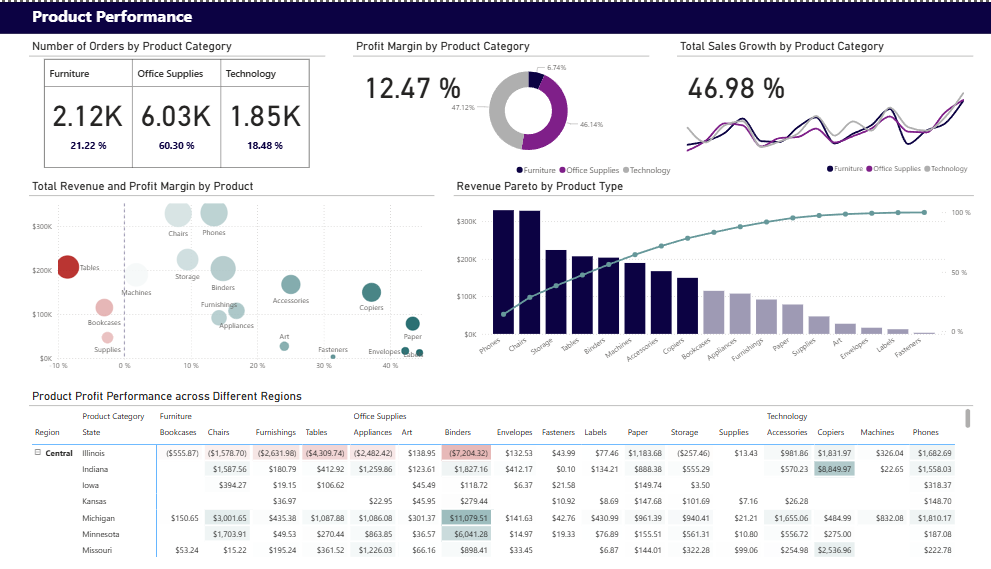

The dashboard page shown, as its layout file describes it:
{"tool":"powerbi","page":{"name":"Product Performance","canvas":[1655,951],"ordinal":3},"visuals":[{"type":"shape","box":[0,0,1655.5,52.7],"z":0},{"type":"scatterChart","title":"Total Revenue and Profit Margin by Product","fields":{"Category":["DimProduct.Category Hierarchy.Product Category","DimProduct.Category Hierarchy.Product Type"],"X":["MeasureTable.Profit Margin %"],"Size":["MeasureTable.Total Sales"],"Y":["MeasureTable.Total Revenue"]},"box":[50,295,676,328],"z":1000},{"type":"pivotTable","title":"Product Profit Performance across Different Regions","fields":{"Columns":["DimProduct.Category Hierarchy.Product Category","DimProduct.Category Hierarchy.Product Type"],"Values":["MeasureTable.Total Profit"],"Rows":["DimLocation.Location Hierarchy.Region","DimLocation.Location Hierarchy.State"]},"box":[50,646,1574,284],"z":2000},{"type":"lineClusteredColumnComboChart","title":"Revenue Pareto by Product Type","fields":{"Y":["MeasureTable.Total Revenue"],"Category":["DimProduct.Product Type"],"Y2":["MeasureTable.Cumulative Revenue %","MeasureTable.Cumulative Product %"]},"box":[757.5,295,867.5,327.5],"z":3000},{"type":"textbox","box":[50,0,350,52.9],"z":4000},{"type":"cardVisual","title":"Number of Orders by Product Category","fields":{"Data":["MeasureTable.Number of Orders"],"Rows":["DimProduct.Product Category"]},"box":[50,62,494,218],"z":5000},{"type":"cardVisual","title":"Total Sales Growth by Product Category","fields":{"Data":["MeasureTable.Total Sales Growth (%)"]},"box":[1130,62,494,218],"z":6000},{"type":"cardVisual","title":"Profit Margin by Product Category","fields":{"Data":["MeasureTable.Profit Margin %"]},"box":[590,62,494,234],"z":7000},{"type":"donutChart","fields":{"Category":["DimProduct.Product Category"],"Y":["MeasureTable.Profit Margin %"]},"box":[636,92,494,206],"z":8000},{"type":"lineChart","fields":{"Y":["MeasureTable.Total Sales by Category"],"Category":["DimCalendar.Date Hierarchy.Year","DimCalendar.Date Hierarchy.Quarter"],"Series":["DimProduct.Product Category"]},"box":[1130,120,494,176],"z":9000}]}

Visuals, with their boxes in screenshot pixels (x1, y1, x2, y2), scaled from the page's 1655x951 canvas onto the 991x569 screenshot:
shape: l=0, t=0, r=990, b=32
"Total Revenue and Profit Margin by Product" scatterChart: l=30, t=177, r=435, b=373
"Product Profit Performance across Different Regions" pivotTable: l=30, t=387, r=972, b=556
"Revenue Pareto by Product Type" lineClusteredColumnComboChart: l=454, t=177, r=973, b=372
textbox: l=30, t=0, r=240, b=32
"Number of Orders by Product Category" cardVisual: l=30, t=37, r=326, b=168
"Total Sales Growth by Product Category" cardVisual: l=677, t=37, r=972, b=168
"Profit Margin by Product Category" cardVisual: l=353, t=37, r=649, b=177
donutChart - DimProduct.Product Category x MeasureTable.Profit Margin %: l=381, t=55, r=677, b=178
lineChart - MeasureTable.Total Sales by Category x DimCalendar.Date Hierarchy.Year: l=677, t=72, r=972, b=177
